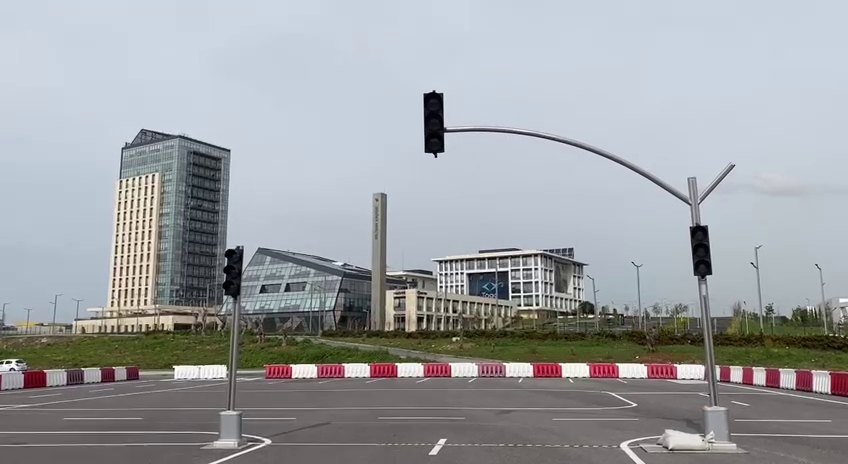trafficLight: (418, 86, 450, 160), (686, 221, 716, 280), (221, 241, 244, 302)
